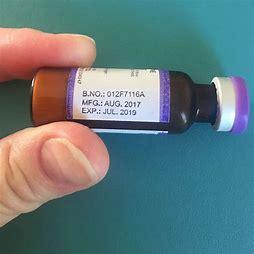Syringe: (22, 60, 254, 140)
